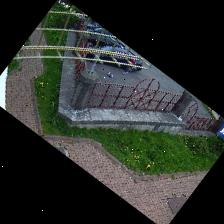person: (121, 65, 129, 74)
